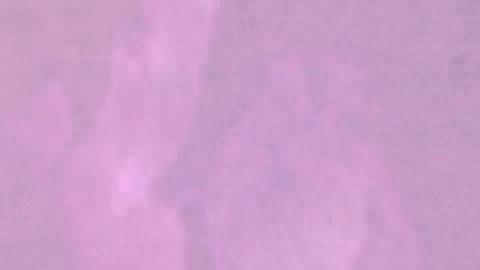tomato: (1, 115, 209, 268), (292, 128, 477, 268), (176, 50, 301, 238)
